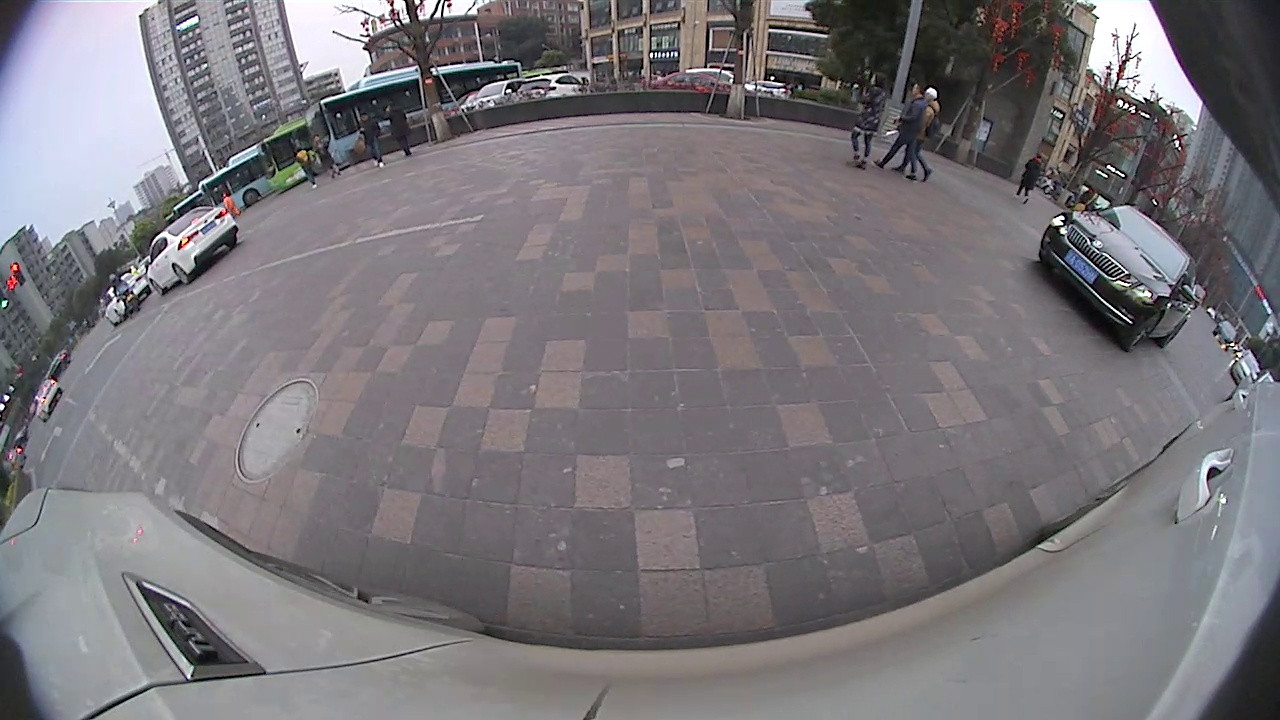bus: (304, 57, 522, 174), (260, 117, 310, 192)
car: (1039, 203, 1208, 353), (144, 203, 240, 297)
front: (1123, 308, 1165, 356)
person: (862, 71, 887, 170), (906, 81, 928, 181), (360, 111, 379, 170), (1026, 153, 1043, 205)
rear: (170, 263, 192, 286)
